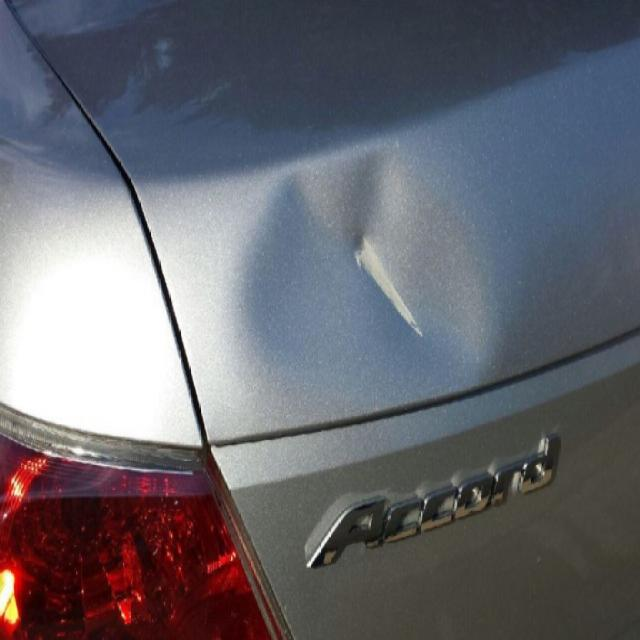dents: (257, 170, 492, 378)
